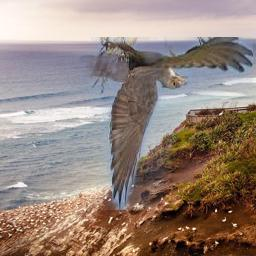Cuckoo: (73, 38, 253, 211)
